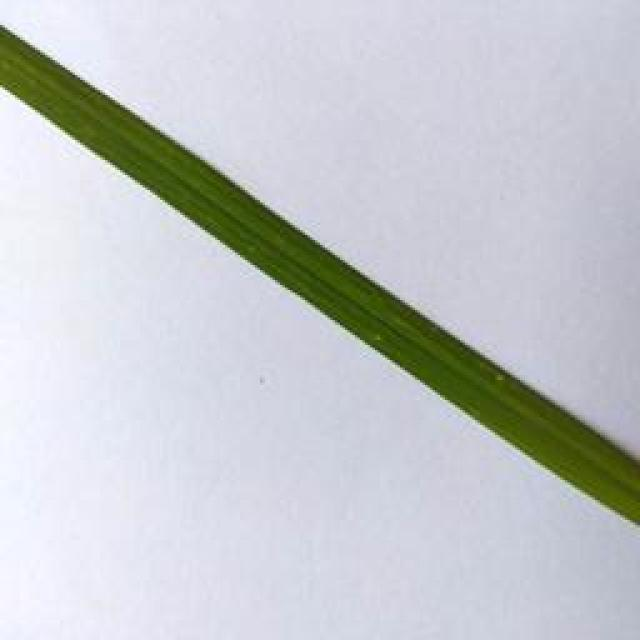Healthy-Plant: (0, 24, 640, 525)
